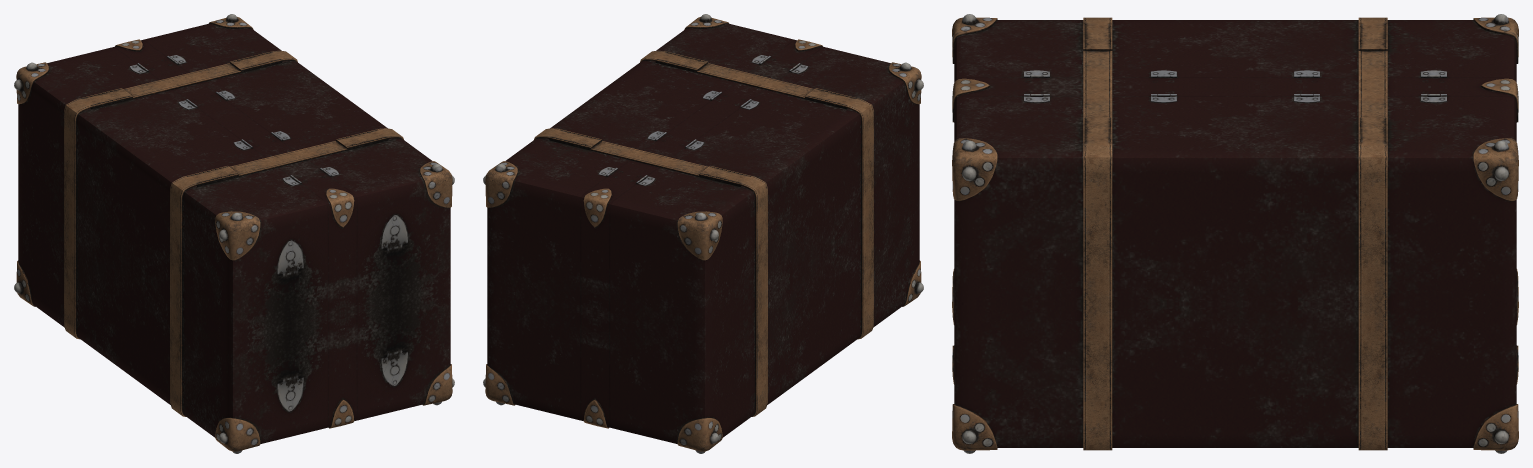
File: SM_TravelCase_SealedBig.fbx
3 views of the same model, side by side, from view 1: azimuth 30°, elevation 25°; view 2: azimuth 150°, elevation 25°; view 3: azimuth 270°, elevation 25° (orthographic). The views are drawn at different scales.
Visible parts, largest first — view 1: SM_TravelCase_SealedBig_LOD0; view 2: SM_TravelCase_SealedBig_LOD0; view 3: SM_TravelCase_SealedBig_LOD0.
Boxes of the visible parts, x1,y1,x2,y2 form: SM_TravelCase_SealedBig_LOD0: (14, 14, 454, 453); SM_TravelCase_SealedBig_LOD0: (483, 14, 923, 453); SM_TravelCase_SealedBig_LOD0: (952, 14, 1518, 453).
Size of the model in its own units: 101 by 164 by 99.36.
1 material, 1 textured.
